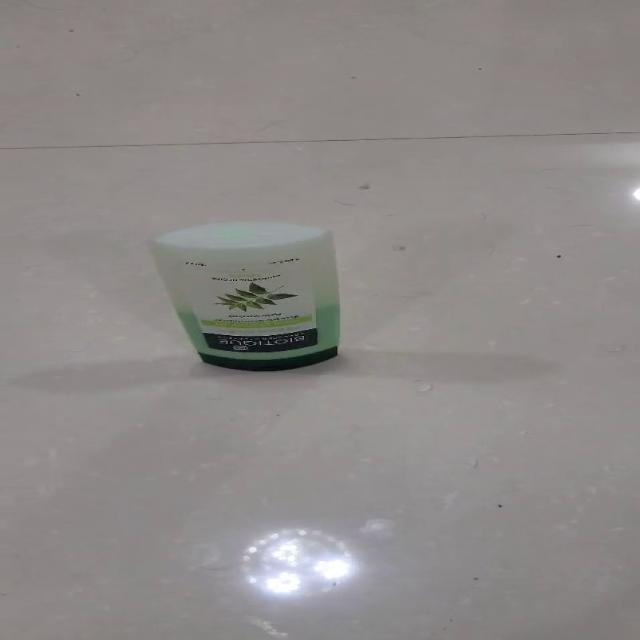plastic: (148, 219, 342, 371)
